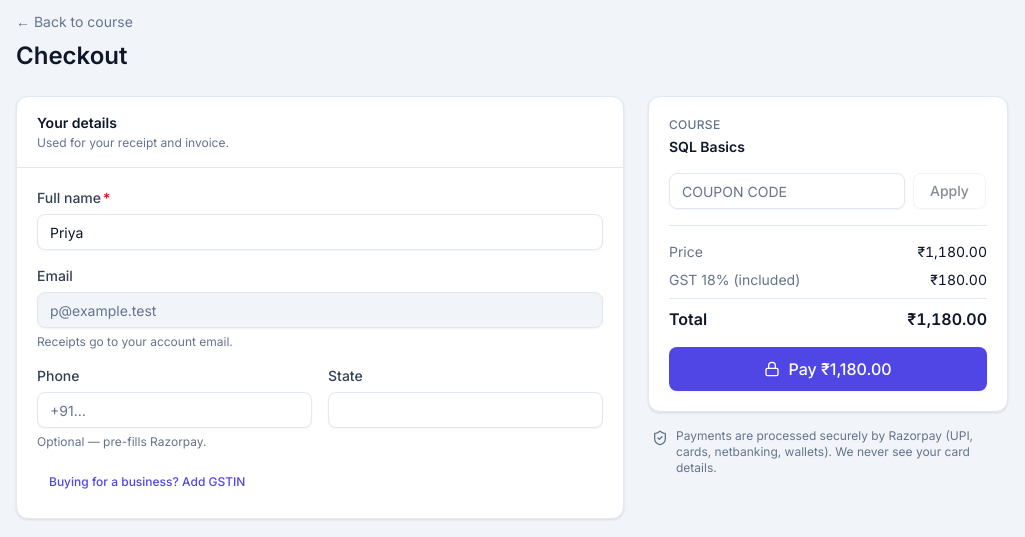
Test: CheckoutPage › shows the GST breakdown and rejects an invalid coupon inline
This screenshot has width=1025, height=537.
Expected: the text "GST 18% (included)" is shown, [669,270,800,290]
Expected: the button "Pay ₹1,180.00" is shown, [669,347,987,391]
Type "nope" into the field labelled "Coupon code" at (787, 191), box [669,173,905,209]
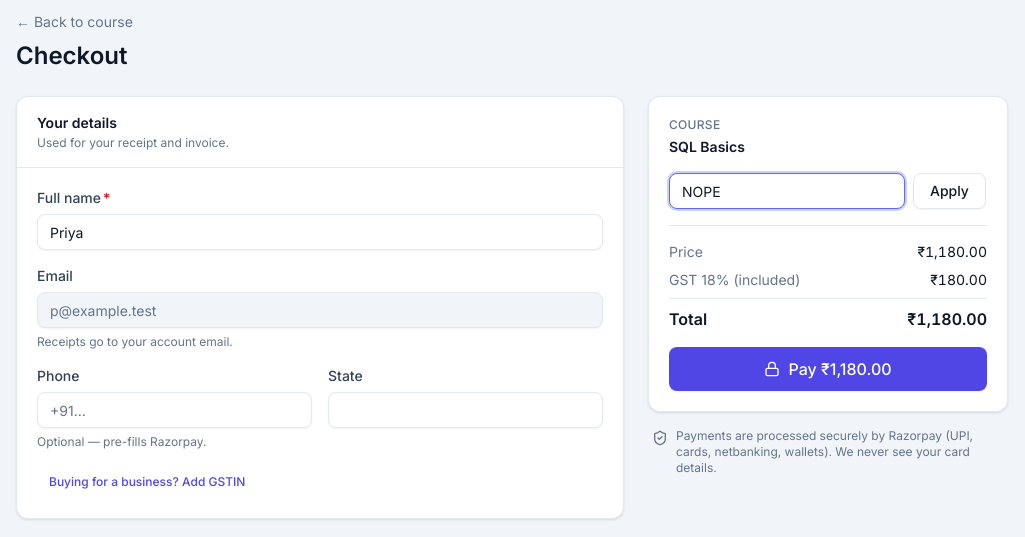
Click the button "Apply" at (949, 191), box [913,173,986,209]
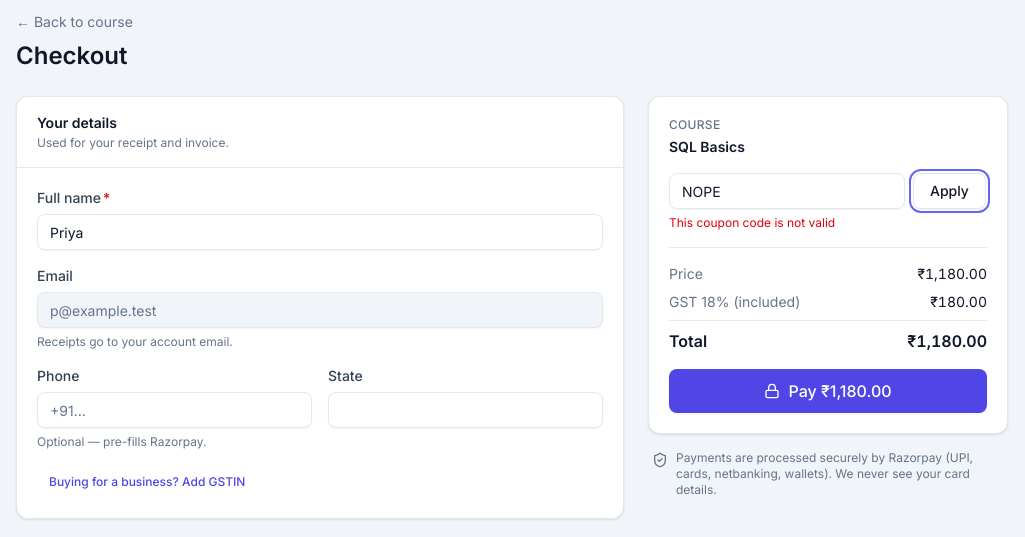
Expected: the message reads "This coupon code is not valid", [669,215,835,230]
